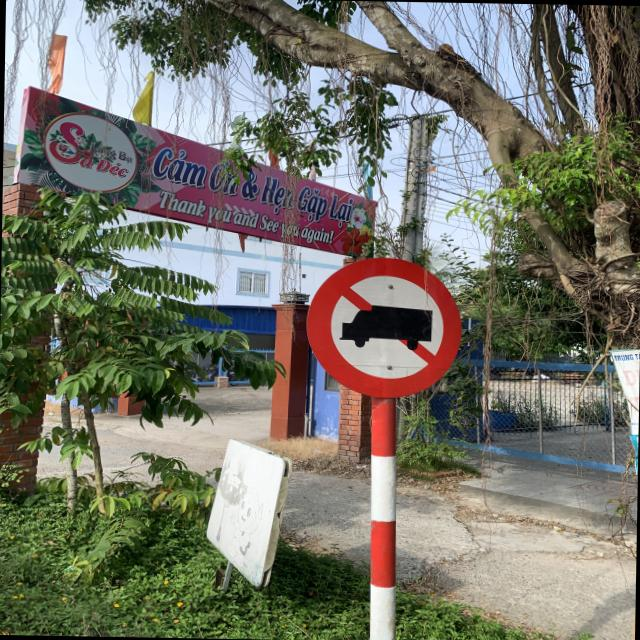Cam_Xe_Tai: (302, 254, 462, 399)
